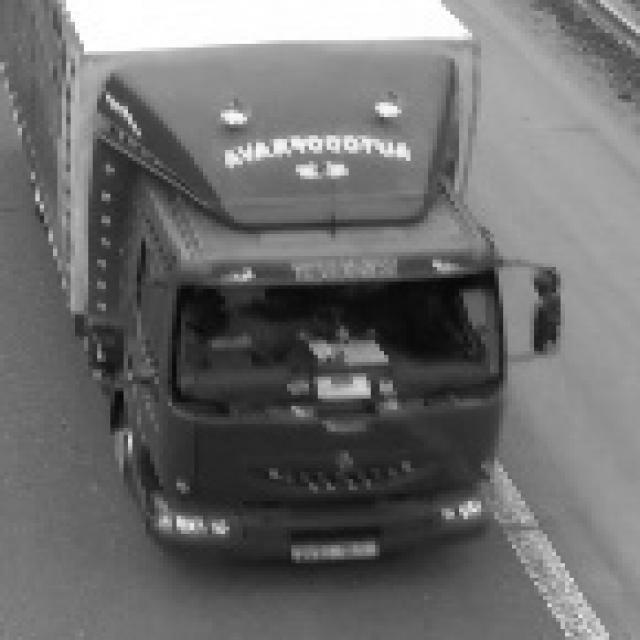truck: (53, 33, 553, 572)
